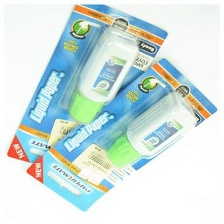book: (24, 55, 219, 214), (4, 0, 171, 179)
correction_fluid: (103, 89, 198, 171), (66, 24, 141, 126)
